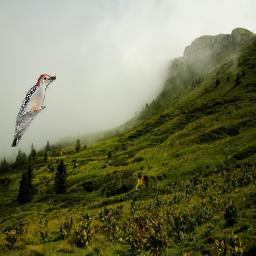Woodpecker: (12, 73, 57, 147)
